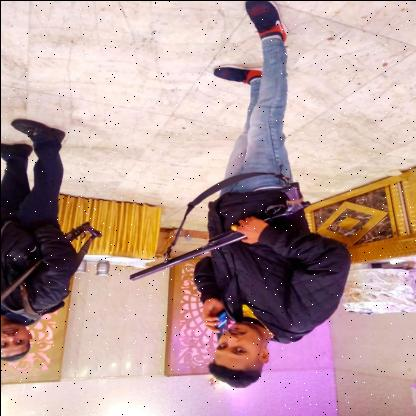rifle: (127, 180, 311, 282), (0, 219, 103, 301)
